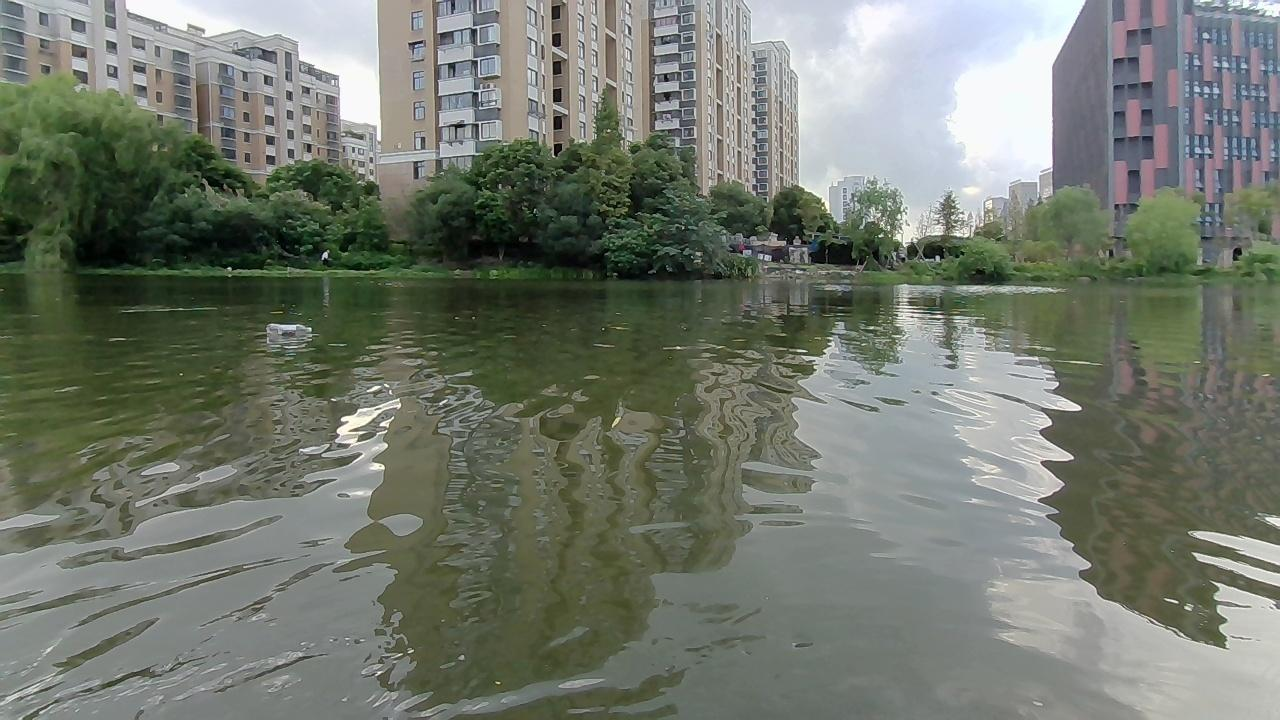bottle: (262, 320, 316, 341)
